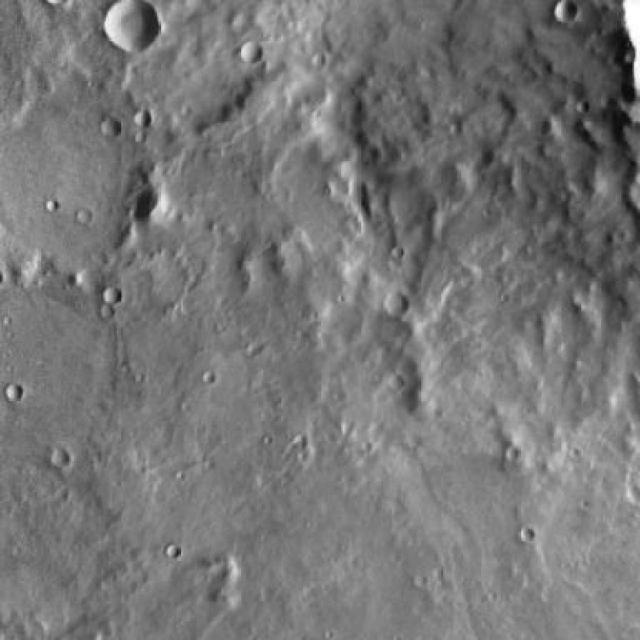crater: (10, 84, 148, 281), (103, 0, 158, 52), (384, 296, 408, 318), (238, 41, 260, 64), (555, 0, 577, 22), (102, 289, 120, 306), (386, 376, 403, 393), (56, 448, 72, 466)
